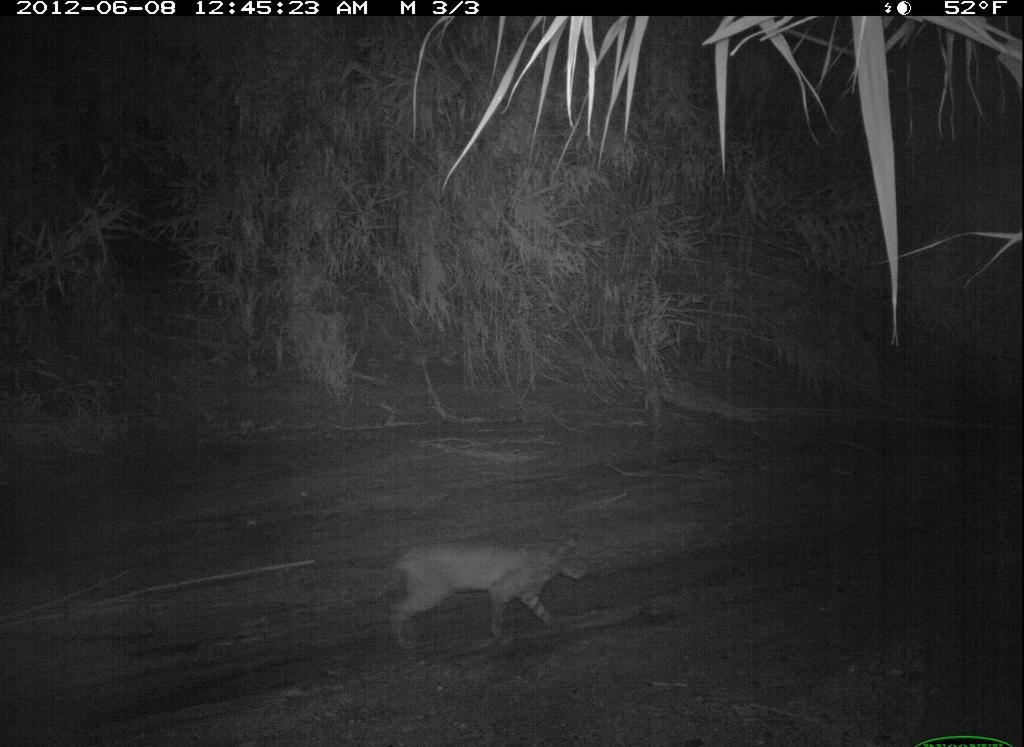bobcat: (368, 532, 594, 652)
